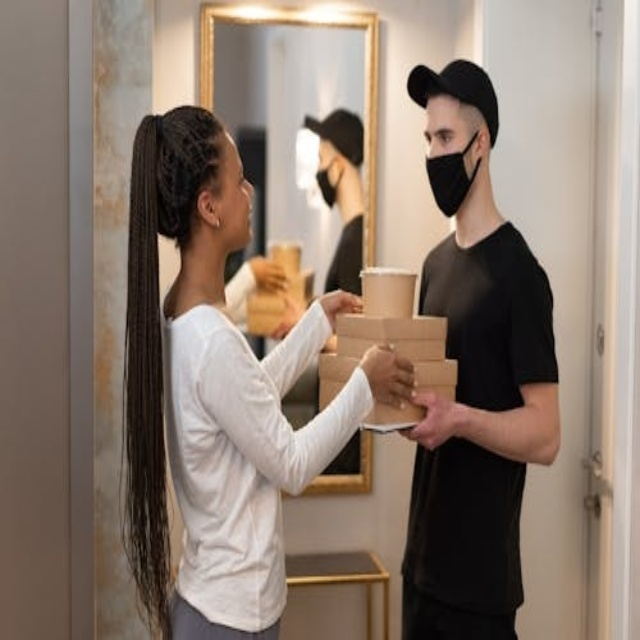Mascara: (424, 150, 477, 223), (316, 161, 348, 219)
Sin_gafas: (216, 161, 250, 196), (425, 117, 462, 146)
Sin_guantes: (359, 340, 419, 409), (400, 389, 463, 452), (319, 286, 362, 342), (247, 256, 293, 295)
Sin_mascara: (228, 204, 256, 242)
